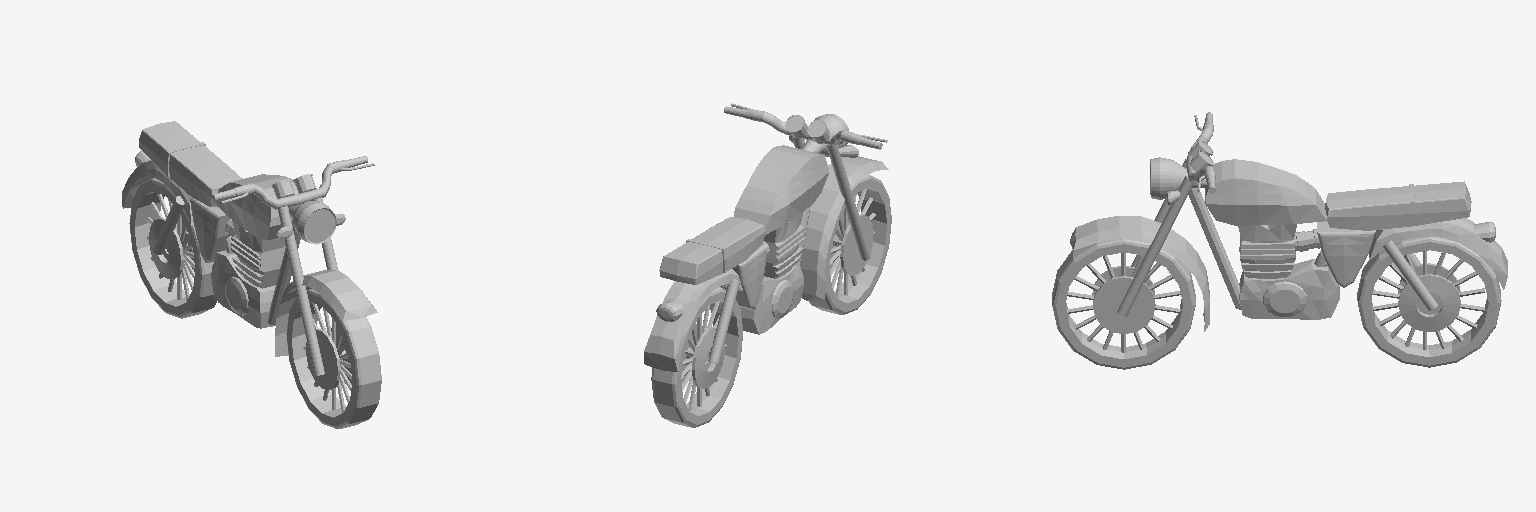
Rendered from bikclush.obj.
The picture shows the model from 3 angles: view 1: azimuth 30°, elevation 25°; view 2: azimuth 150°, elevation 25°; view 3: azimuth 270°, elevation 25°; orthographic projection.
Parts seen in each view (by area): view 1: Front_wheel_Cylinder.001, Rear_wheel_Cylinder.001, Seat_Cube.002, Front_water_Cube.001, Gas_Tank_Cube.001, Engine_1_Cube.001, Engine_2_Cube.001, Front_bumper_left_Cylinder.001, Steering_Cylinder.001, Engine_3_Cube.001, Headlight_Cylinder.001, Rear_water_Cube.001 (+6 smaller); view 2: Rear_wheel_Cylinder.001, Gas_Tank_Cube.001, Front_wheel_Cylinder.001, Seat_Cube.002, Front_water_Cube.001, Rear_water_Cube.001, Engine_2_Cube.001, Engine_1_Cube.001, Engine_3_Cube.001, Front_bumper_left_Cylinder.001, Steering_Cylinder.001, Rear_wheel_inside_Cylinder.001 (+5 smaller); view 3: Front_wheel_Cylinder.001, Rear_wheel_Cylinder.001, Gas_Tank_Cube.001, Seat_Cube.002, Engine_2_Cube.001, Front_water_Cube.001, Engine_1_Cube.001, Rear_water_Cube.001, Engine_3_Cube.001, Front_wheel_inside_Cylinder.001, Rear_wheel_inside_Cylinder.001, Front_bumper_right_Cylinder.001 (+6 smaller).
Boxes of the visible parts, <box> form: Front_wheel_Cylinder.001: <box>286,289,381,428</box>; Rear_wheel_Cylinder.001: <box>129,178,216,318</box>; Seat_Cube.002: <box>139,121,242,206</box>; Front_water_Cube.001: <box>275,270,377,356</box>; Gas_Tank_Cube.001: <box>215,174,298,239</box>; Engine_1_Cube.001: <box>231,220,285,288</box>; Engine_2_Cube.001: <box>211,250,275,328</box>; Front_bumper_left_Cylinder.001: <box>278,206,324,375</box>; Steering_Cylinder.001: <box>212,156,367,209</box>; Engine_3_Cube.001: <box>190,196,229,262</box>; Headlight_Cylinder.001: <box>288,201,336,244</box>; Rear_water_Cube.001: <box>122,160,193,225</box>; Rear_wheel_Cylinder.001: <box>651,287,742,427</box>; Gas_Tank_Cube.001: <box>734,145,828,234</box>; Front_wheel_Cylinder.001: <box>809,175,891,314</box>; Seat_Cube.002: <box>659,217,765,284</box>; Front_water_Cube.001: <box>800,156,888,300</box>; Rear_water_Cube.001: <box>644,269,742,371</box>; Engine_2_Cube.001: <box>740,265,804,334</box>; Engine_1_Cube.001: <box>764,212,804,278</box>; Engine_3_Cube.001: <box>720,243,767,309</box>; Front_bumper_left_Cylinder.001: <box>826,144,870,260</box>; Steering_Cylinder.001: <box>724,106,882,149</box>; Rear_wheel_inside_Cylinder.001: <box>681,301,726,410</box>; Front_wheel_Cylinder.001: <box>1052,239,1195,369</box>; Rear_wheel_Cylinder.001: <box>1357,236,1501,367</box>; Gas_Tank_Cube.001: <box>1205,159,1326,225</box>; Seat_Cube.002: <box>1325,181,1471,230</box>; Engine_2_Cube.001: <box>1239,259,1339,319</box>; Front_water_Cube.001: <box>1070,216,1209,331</box>; Engine_1_Cube.001: <box>1238,224,1296,278</box>; Rear_water_Cube.001: <box>1369,218,1507,289</box>; Engine_3_Cube.001: <box>1317,221,1375,287</box>; Front_wheel_inside_Cylinder.001: <box>1067,252,1180,352</box>; Rear_wheel_inside_Cylinder.001: <box>1373,251,1484,350</box>; Front_bumper_right_Cylinder.001: <box>1117,175,1193,316</box>.
Bounding box in the file's own units: 2.85 × 3.83 × 7.27.